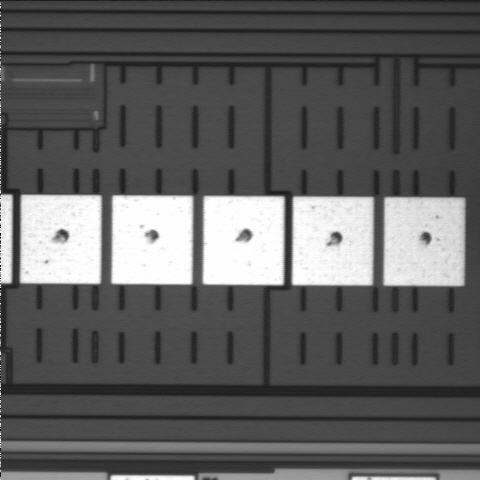pad: (111, 195, 193, 285), (20, 195, 101, 284), (203, 196, 284, 285), (384, 197, 465, 286), (292, 197, 373, 285)
